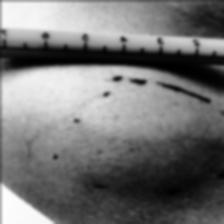Unclassified: (82, 103, 215, 175)
